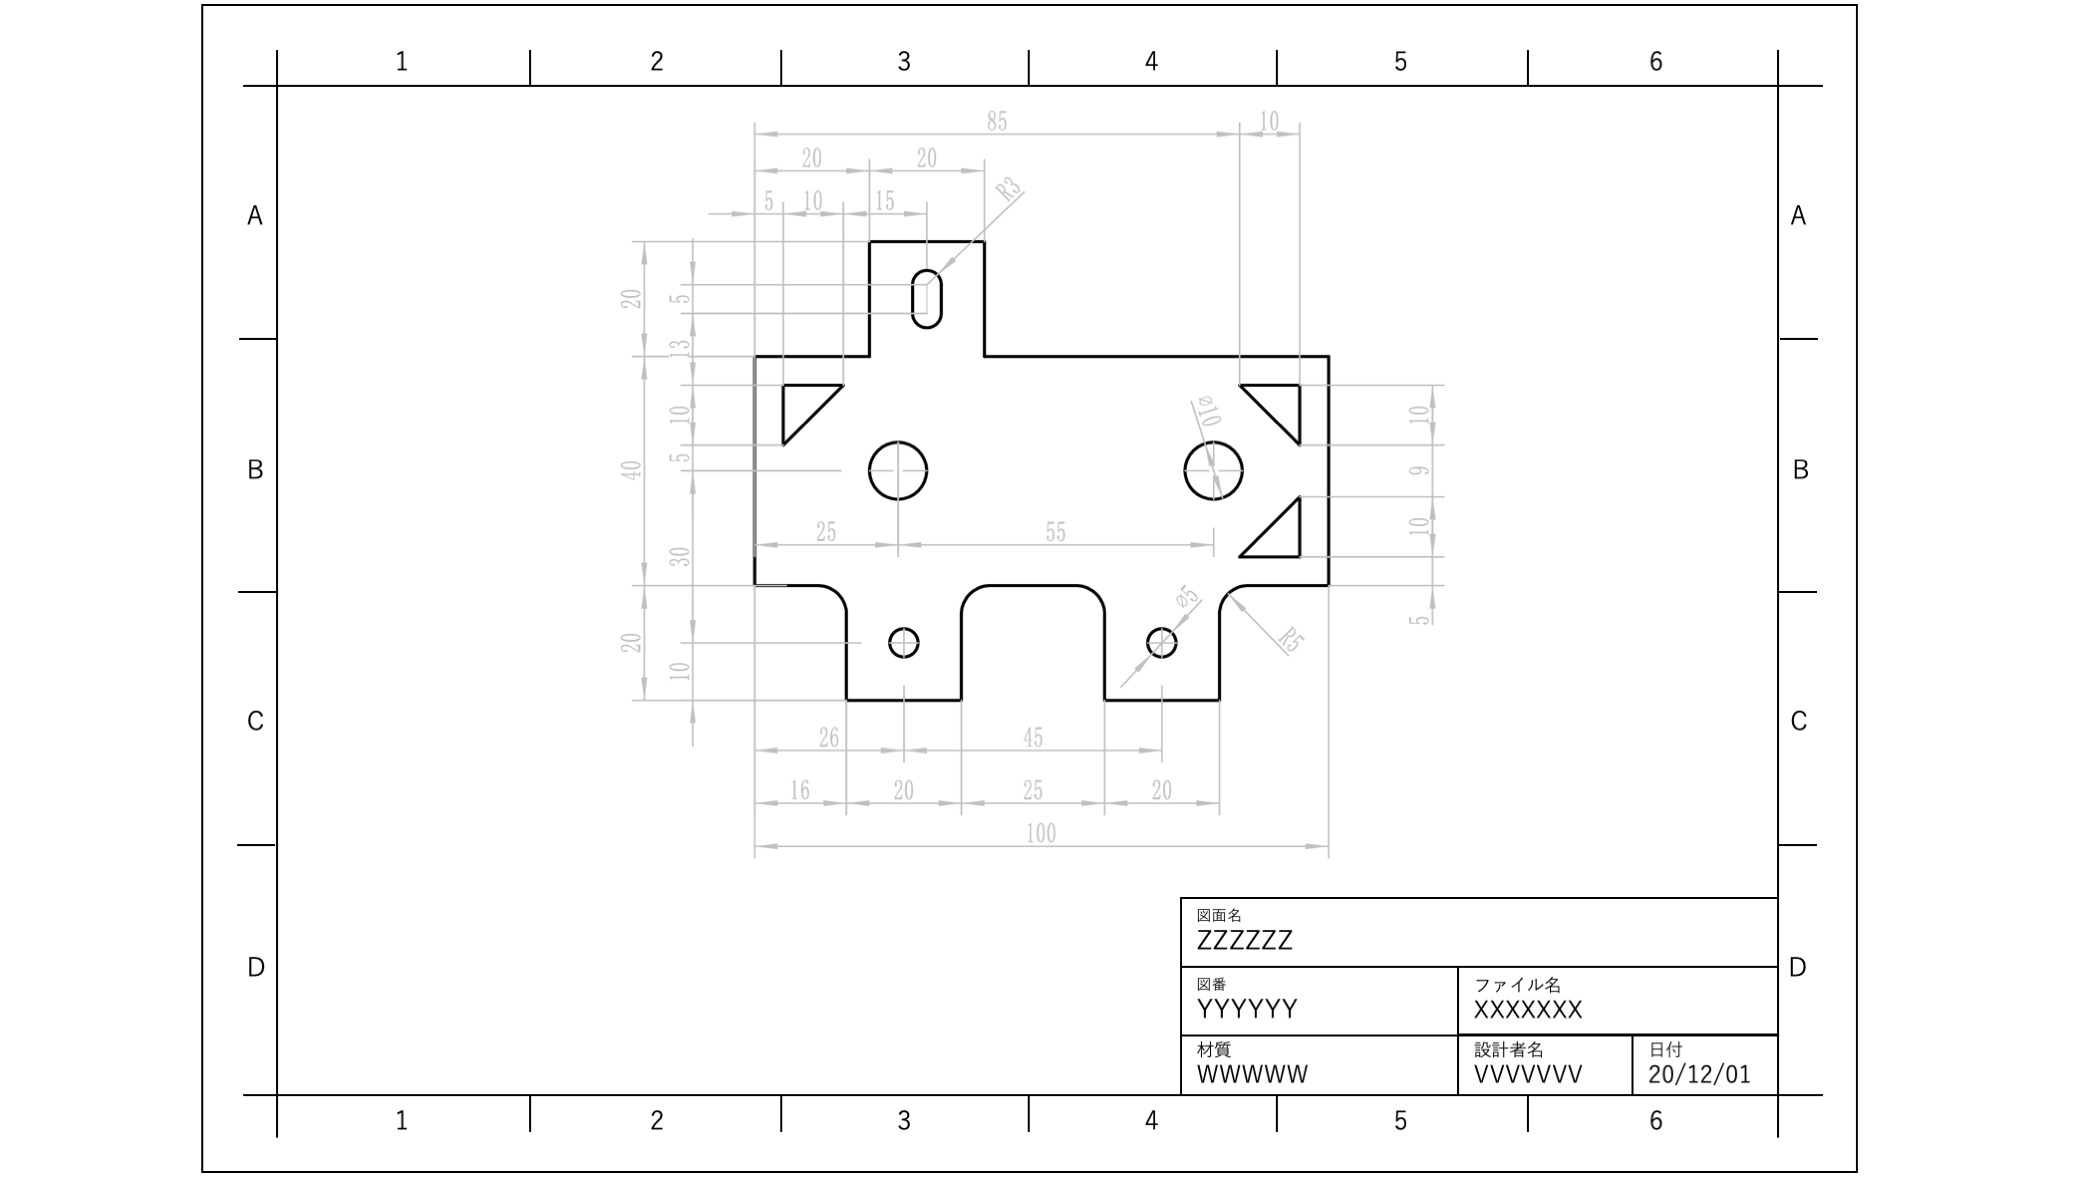circle: (862, 430, 936, 503), (1173, 433, 1249, 502), (884, 619, 923, 663), (1139, 630, 1178, 663)
round_rectangle: (904, 257, 948, 333)
triangle: (1235, 487, 1307, 562), (776, 372, 847, 447), (1236, 376, 1305, 448)
